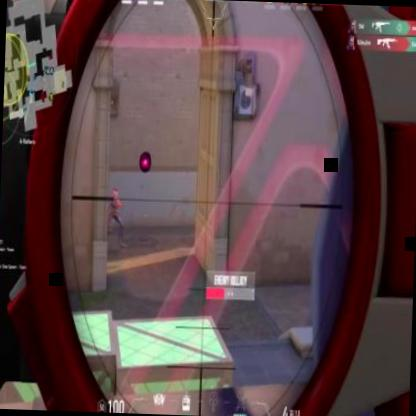enemy: (102, 186, 128, 250)
enemy_head: (112, 188, 119, 200)
